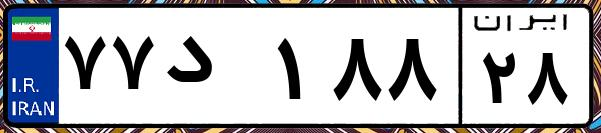1: (270, 28, 330, 110)
2: (475, 38, 525, 113)
7: (57, 26, 110, 100), (110, 28, 158, 98)
8: (385, 28, 445, 110), (330, 28, 385, 110), (525, 38, 570, 115)
د: (158, 20, 270, 120)
